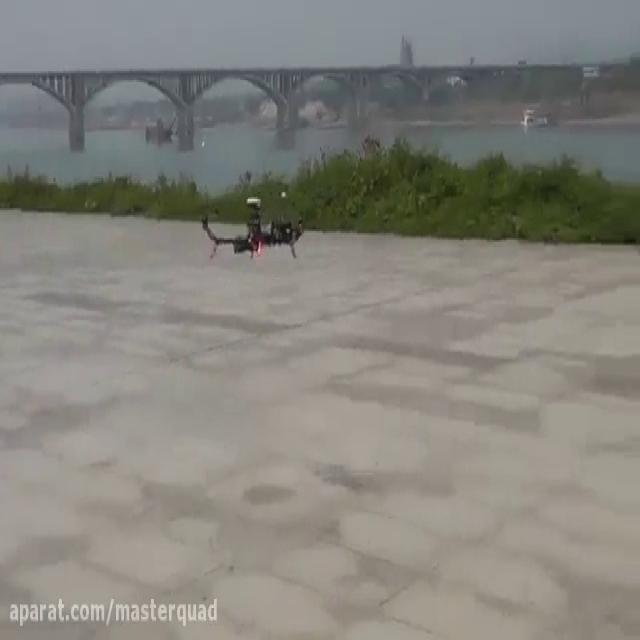drone: (197, 186, 307, 268)
